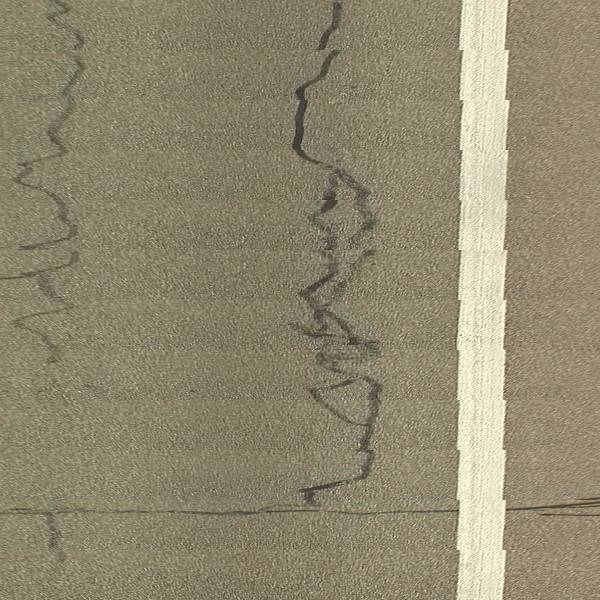road_damage: (288, 1, 384, 513), (10, 1, 91, 371)
